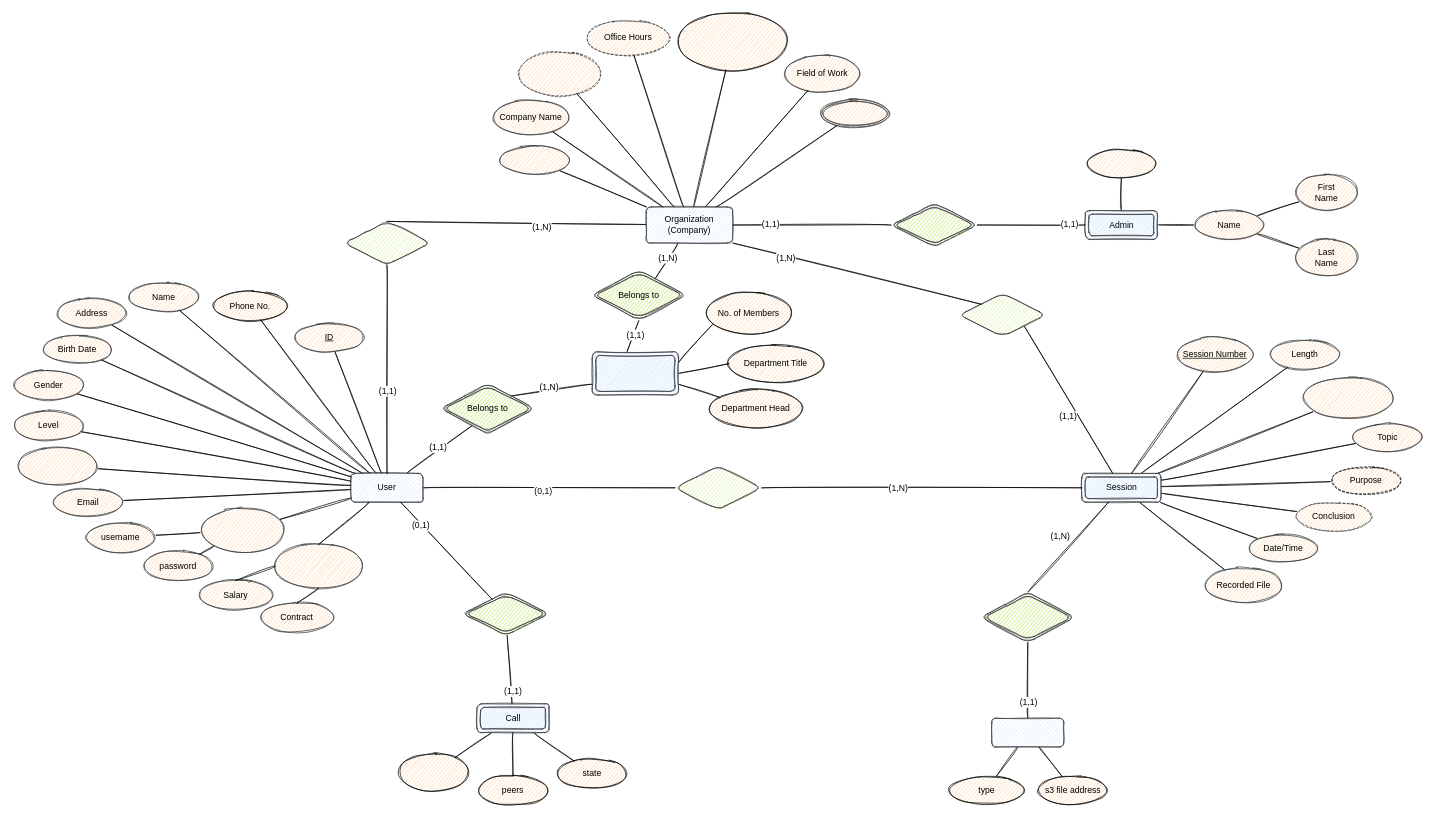
This 1436x817 diagram has some shape labels left out. Here are the shapes that lost their labels. From the top down, the centre of each, then its label:
At (732,41): "Contract Info with RoundTable".
At (559,73): "No. of Employees".
At (854,113): "Location".
At (534,160): "Domain".
At (1121,163): "Job Title".
At (386,243): "Adds".
At (933,225): "Manages".
At (1002,315): "Gets Data".
At (635,373): "Department (Group)".
At (1348,397): "No. of Participants".
At (57,465): "Insurance Info".
At (717,487): "Starts".
At (242,530): "Auth Info".
At (318,566): "Job Description".
At (505,613): "Schedules".
At (1027,617): "Has".
At (1027,732): "Item".
At (433,771): "active-node".
